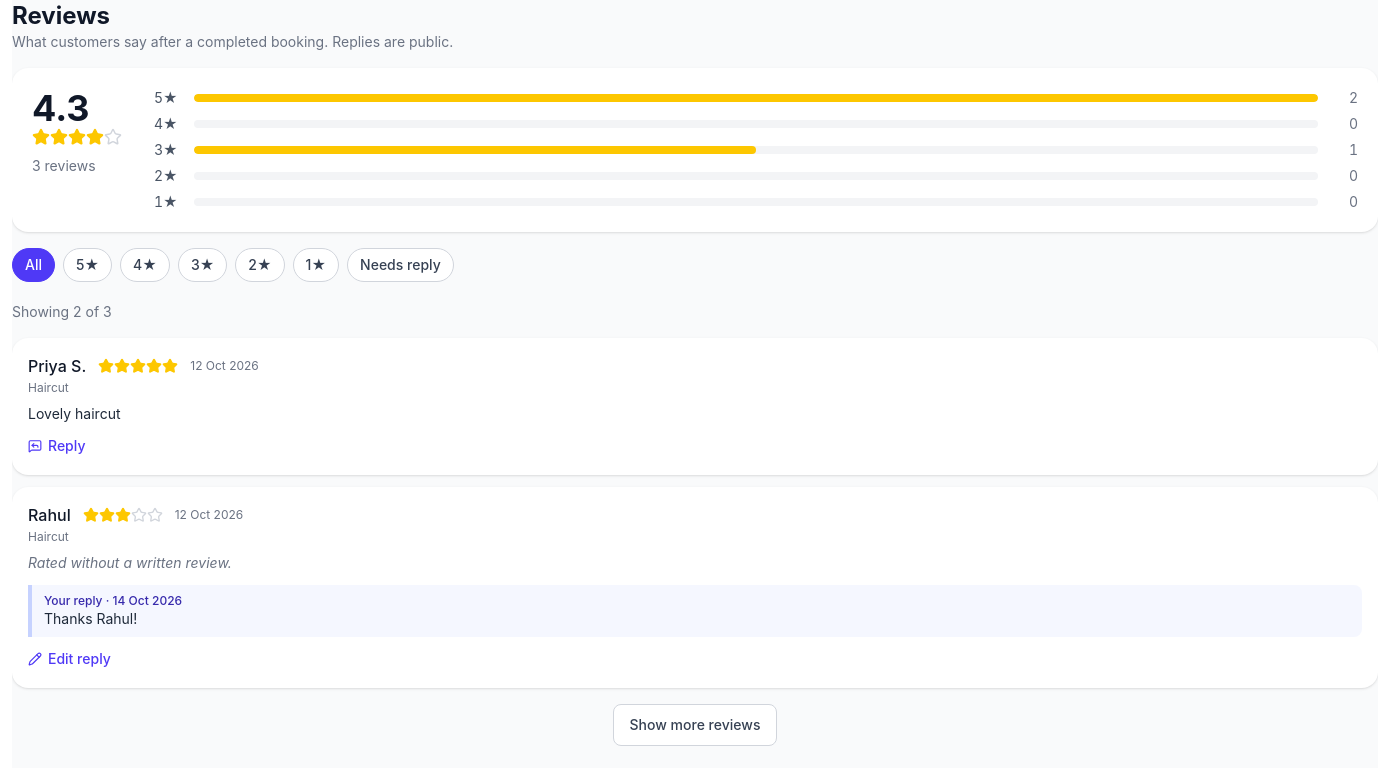
Test: ReviewsPage › shows the summary with its distribution and the newest reviews with replies
Expected: the text "4.3" is shown, [32,86,90,130]
Expected: the text "3 reviews" is shown, [32,157,96,174]
Click the button "Show more reviews".
click(695, 725)  # box [613,704,777,746]
(page scrolled)
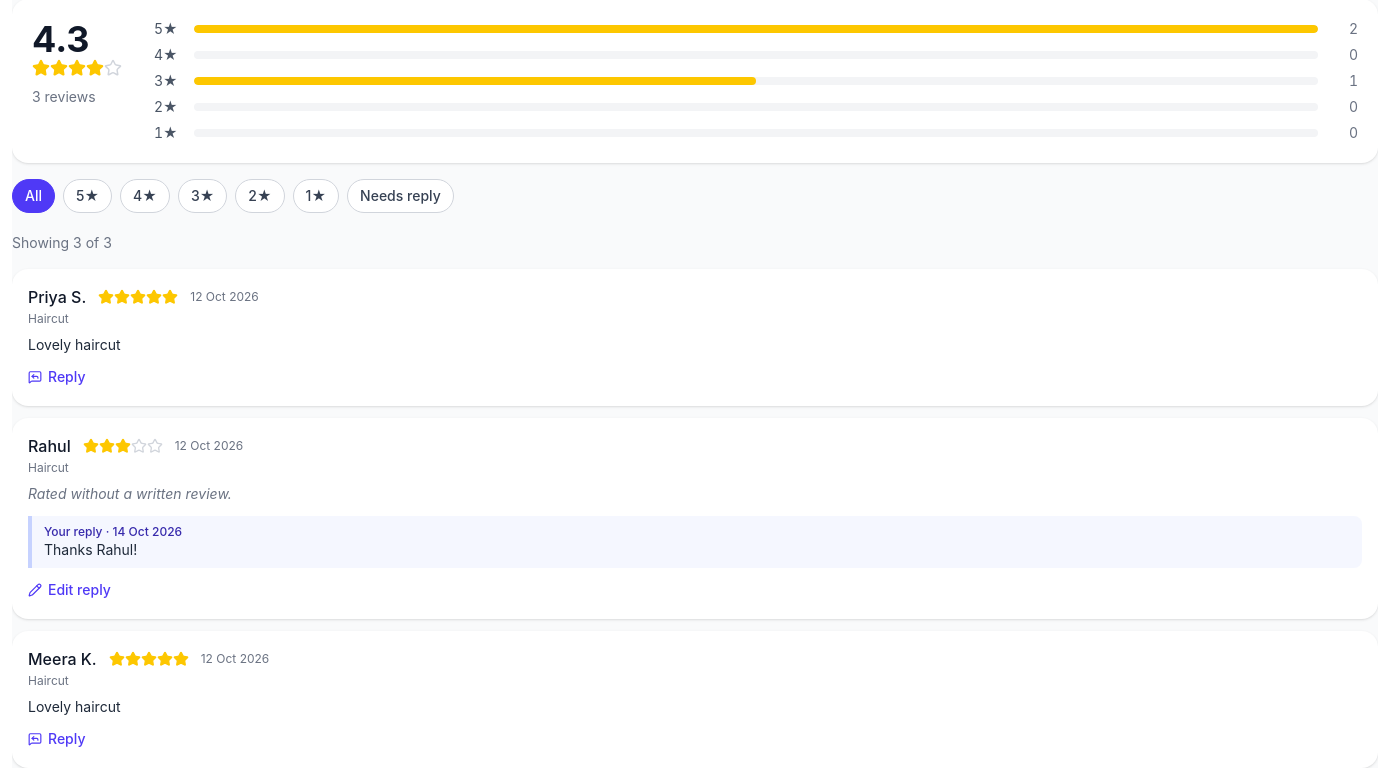
Now the element named "Review by Meera K." is shown, box [12,631,1377,767]
Now the button "Show more reviews" is gone
